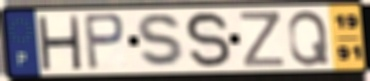H: (35, 15, 83, 71)
P: (82, 12, 128, 73)
Q: (286, 9, 331, 68)
S: (135, 12, 190, 70), (184, 10, 234, 70)
Z: (238, 10, 287, 69)
